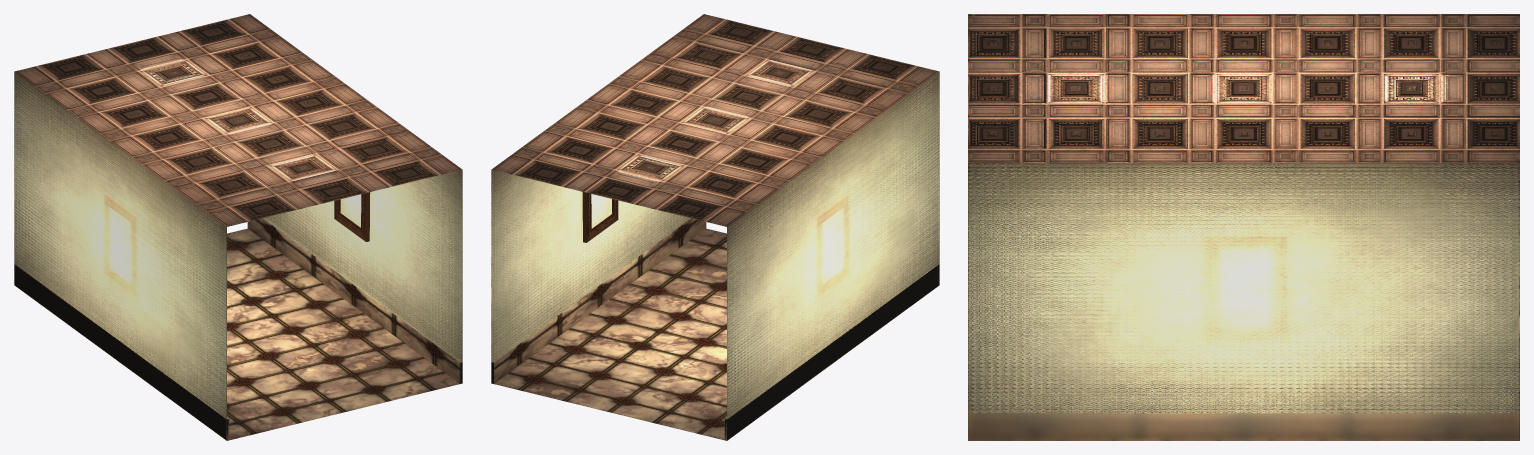
Rendered from hall-gallery.glb.
3 views of the same model, side by side, from view 1: azimuth 30°, elevation 25°; view 2: azimuth 150°, elevation 25°; view 3: azimuth 270°, elevation 25° (orthographic). The views are drawn at different scales.
Parts seen in each view (by area): view 1: Hall; view 2: Hall; view 3: Hall.
Boxes of the visible parts, <box> form: Hall: <box>14,14,462,440</box>; Hall: <box>491,14,939,440</box>; Hall: <box>968,14,1519,440</box>.
Size of the model in its own units: 5.76 by 5 by 9.
Materials: 1 (1 with a texture image).
